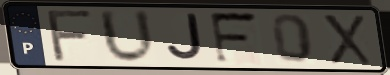0: (269, 11, 316, 67)
F: (207, 10, 262, 67), (46, 9, 98, 64)
J: (164, 12, 207, 64)
U: (96, 7, 159, 66)
X: (319, 12, 375, 67)
